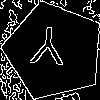Y: (29, 26, 66, 74)
